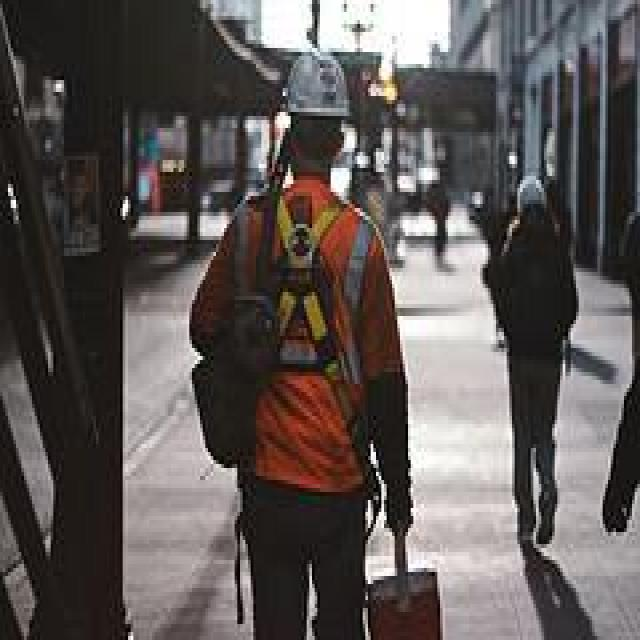Reflective-Jacket: (186, 176, 402, 512)
Safety-Helmet: (269, 40, 360, 136), (512, 172, 552, 220)
